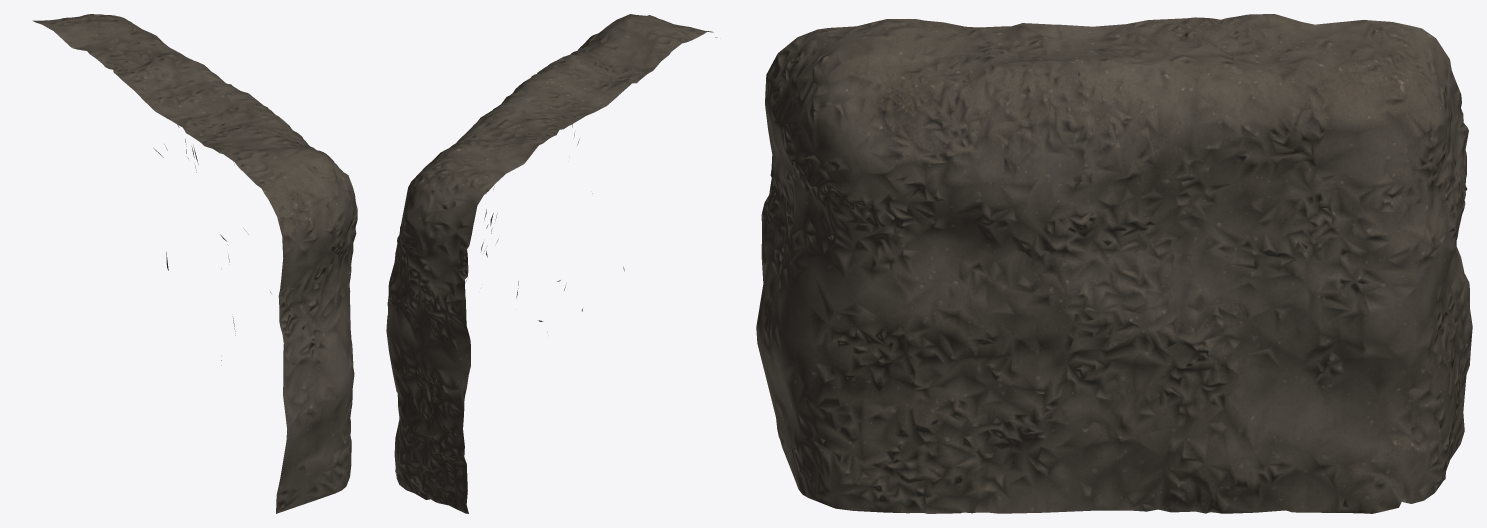
Rendered from SM_WallMudRough_4x3_01.glb.
3 views of the same model, side by side, from view 1: azimuth 30°, elevation 25°; view 2: azimuth 150°, elevation 25°; view 3: azimuth 270°, elevation 25° (orthographic). The views are drawn at different scales.
Parts seen in each view (by area): view 1: SM_WallMudRough_4x3_01; view 2: SM_WallMudRough_4x3_01; view 3: SM_WallMudRough_4x3_01.
Boxes of the visible parts, left/top/right/bottom form: SM_WallMudRough_4x3_01: left=32, top=14, right=357, bottom=513; SM_WallMudRough_4x3_01: left=386, top=14, right=717, bottom=513; SM_WallMudRough_4x3_01: left=756, top=14, right=1472, bottom=513.
Size of the model in its own units: 1.18 by 3.13 by 4.69.
Materials: 1 (1 with a texture image).
